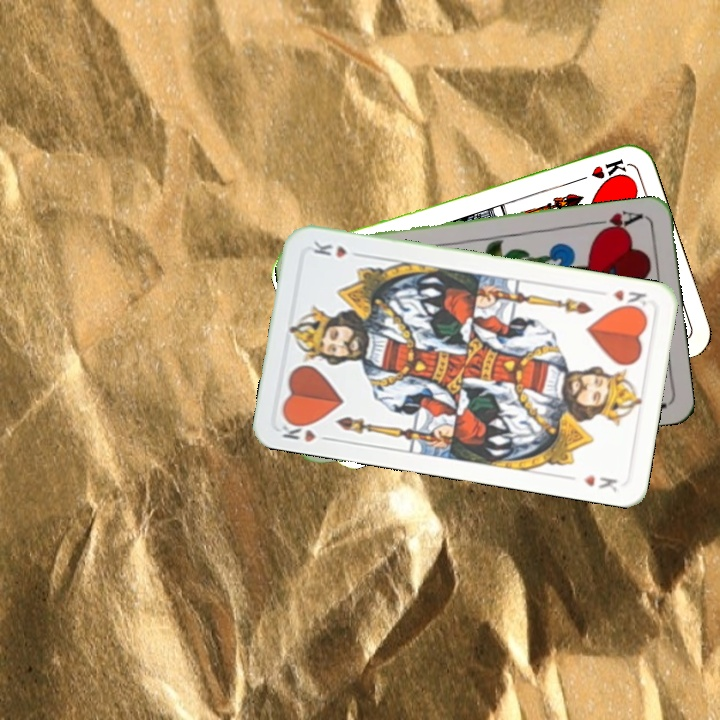HA: (587, 206, 646, 237)
HK: (276, 414, 335, 445), (570, 155, 629, 185), (609, 285, 653, 314)
